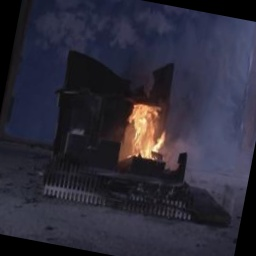fire: (117, 92, 183, 175)
